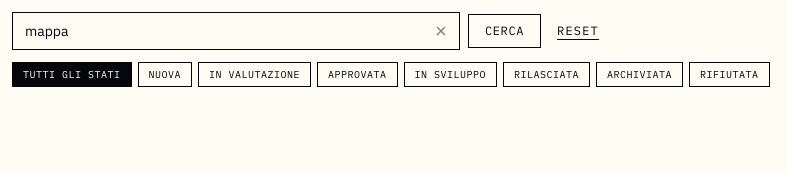
Test case: ProposalFilters › clears the search field when the × is clicked
This screenshot has width=787, height=172.
Click the button named "cancella ricerca" at (441, 31), box [430,20,452,42]
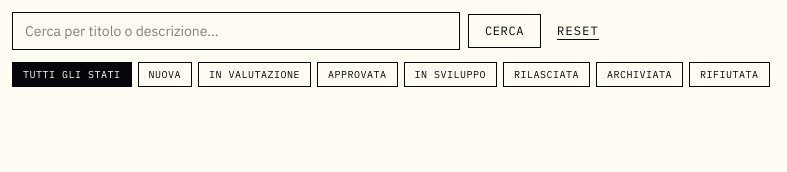
Expected: the field is empty, [12,12,460,50]
